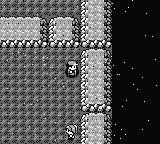captura: (0, 0, 112, 142)
main: (66, 60, 79, 77)
no-caminable: (113, 0, 160, 144), (80, 51, 112, 113), (0, 18, 48, 49), (80, 0, 111, 46), (48, 18, 80, 48), (0, 14, 42, 21), (104, 113, 112, 144), (80, 115, 88, 144), (85, 45, 107, 54), (85, 109, 105, 117), (54, 14, 74, 21)
npc: (66, 124, 76, 140)
